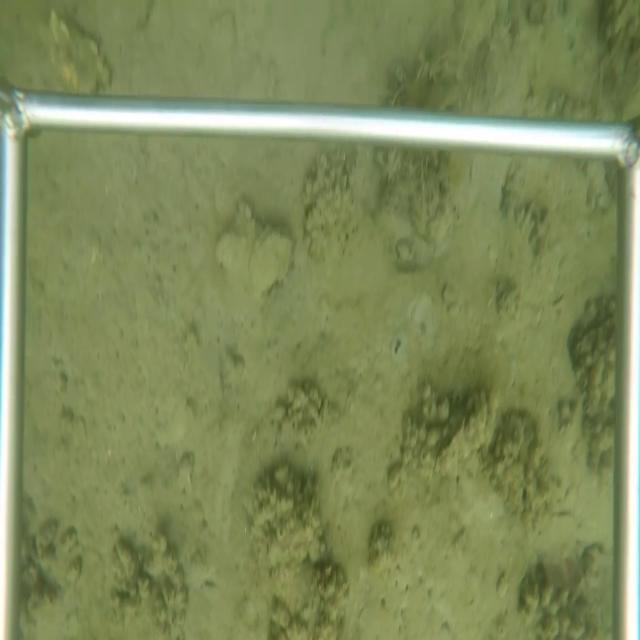Oyster-Indeterminate: (432, 387, 493, 482), (48, 11, 115, 94), (247, 221, 300, 303)
